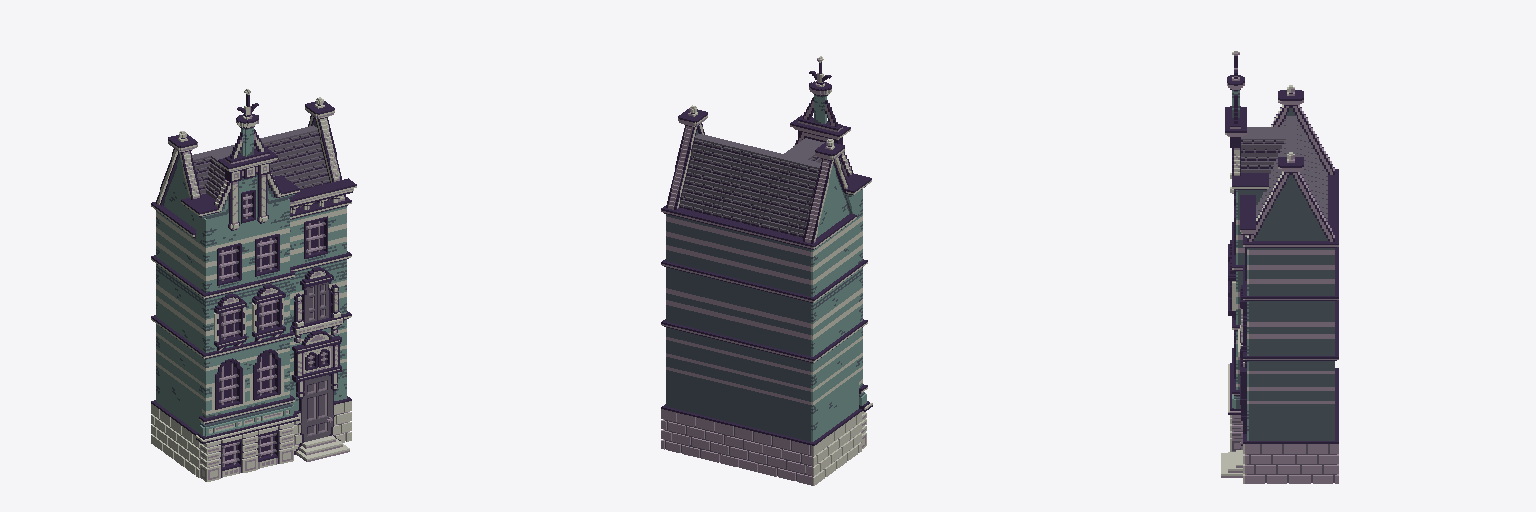
3 renders of one model, left to right at view 1: azimuth 30°, elevation 25°; view 2: azimuth 150°, elevation 25°; view 3: azimuth 270°, elevation 25°, orthographic.
Parts seen in each view (by area): view 1: object 1; view 2: object 1; view 3: object 1.
Boxes of the visible parts, box(x1,y1,x2,y2) form: object 1: box(151, 89, 356, 481); object 1: box(661, 56, 872, 485); object 1: box(1221, 51, 1338, 483).
Size of the model in its own units: 10.1 by 22.8 by 6.4.
1 materials, 1 textured.